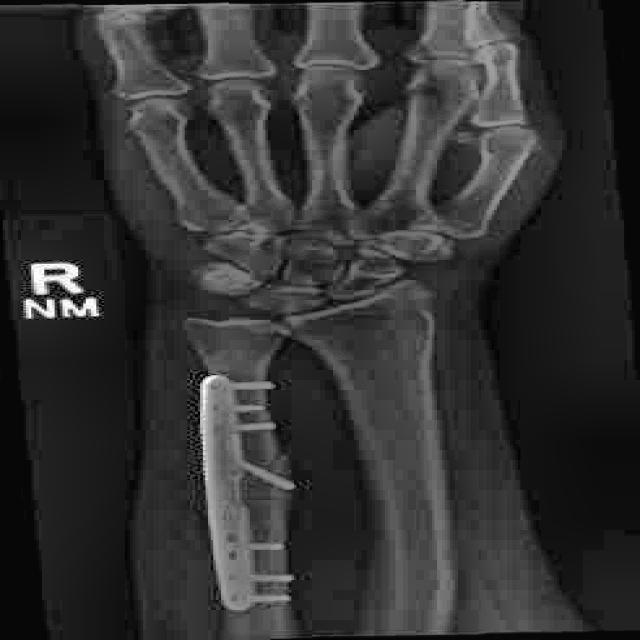wrist positive: (201, 430, 322, 524)
